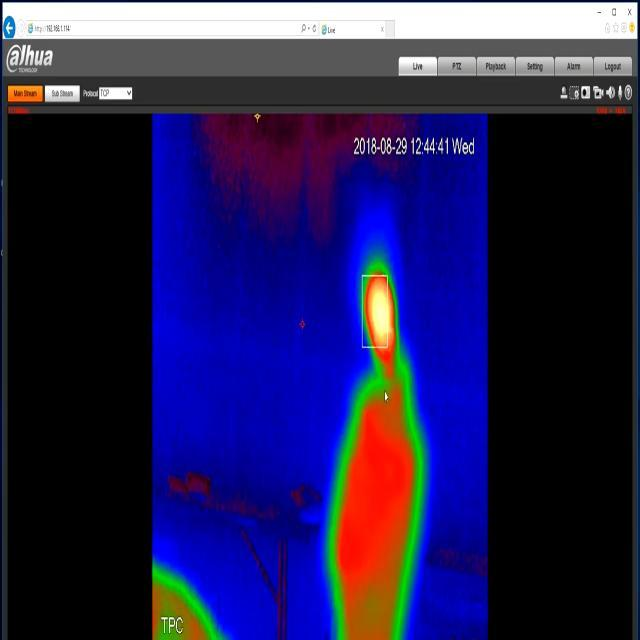fire: (366, 248, 401, 379)
